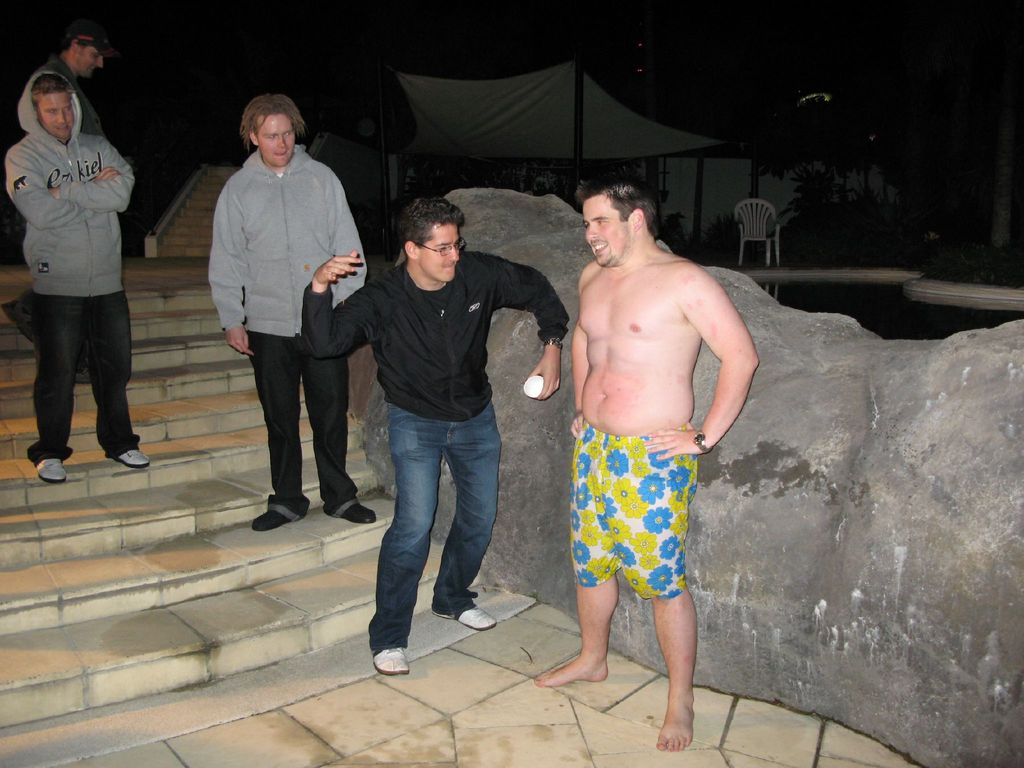Footwear: (433, 604, 499, 632), (370, 645, 411, 677), (252, 504, 292, 527), (36, 455, 68, 483), (118, 447, 152, 468), (344, 504, 379, 522)
